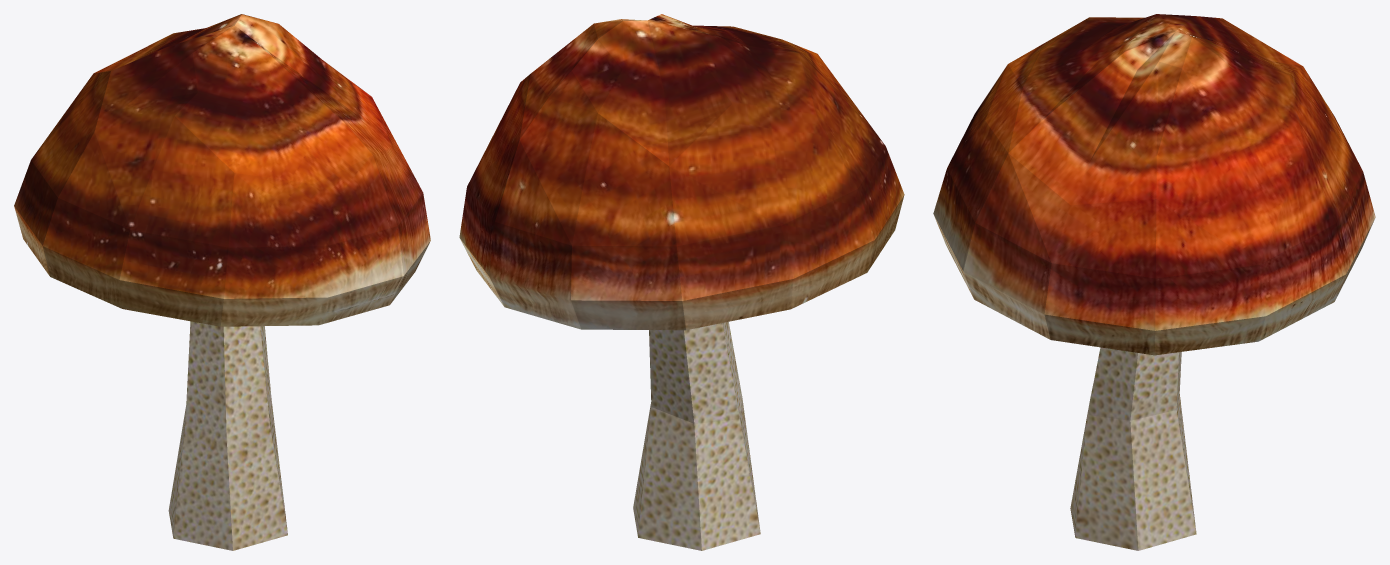
The model's file is fungo_2.fbx.
The picture shows the model from 3 angles, left to right: view 1: azimuth 30°, elevation 25°; view 2: azimuth 150°, elevation 25°; view 3: azimuth 270°, elevation 25°; orthographic projection. The views are drawn at different scales.
Visible parts, largest first — view 1: fungo_2; view 2: fungo_2; view 3: fungo_2.
Boxes of the visible parts, box(x1,y1,x2,y2) form: fungo_2: box(14, 14, 430, 550); fungo_2: box(459, 14, 904, 550); fungo_2: box(933, 14, 1375, 550).
Size of the model in its own units: 9.6 by 12.18 by 9.66.
